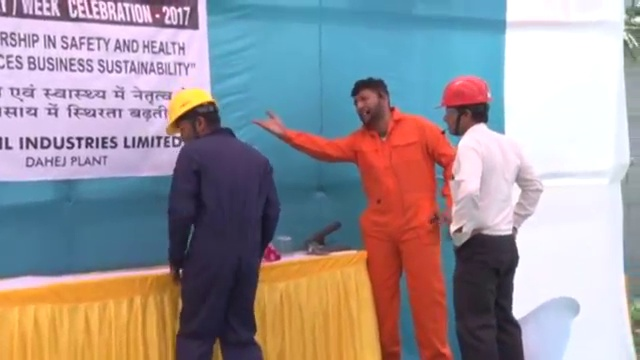helmet: (163, 86, 218, 136), (433, 74, 492, 111)
helmet_off: (351, 77, 392, 126)
helmet_on: (431, 72, 496, 137), (162, 85, 225, 147)
person: (255, 77, 457, 360), (161, 85, 282, 360), (431, 71, 545, 360)
